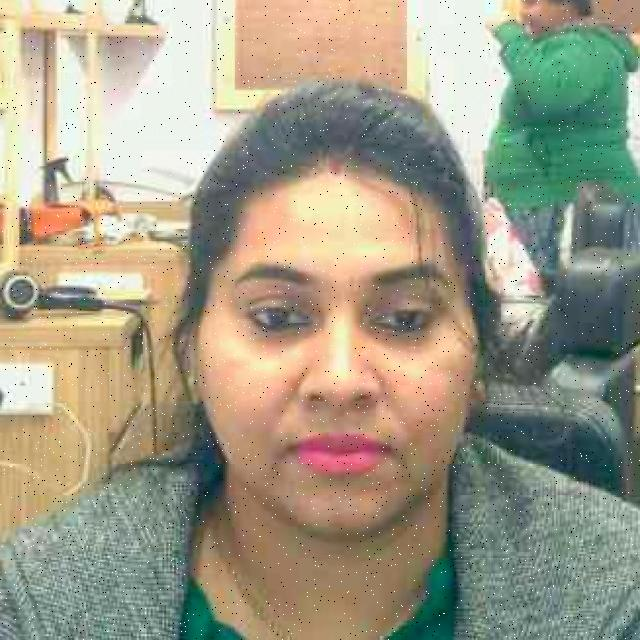puffy_eyes: (359, 325, 427, 352), (253, 323, 316, 351)
